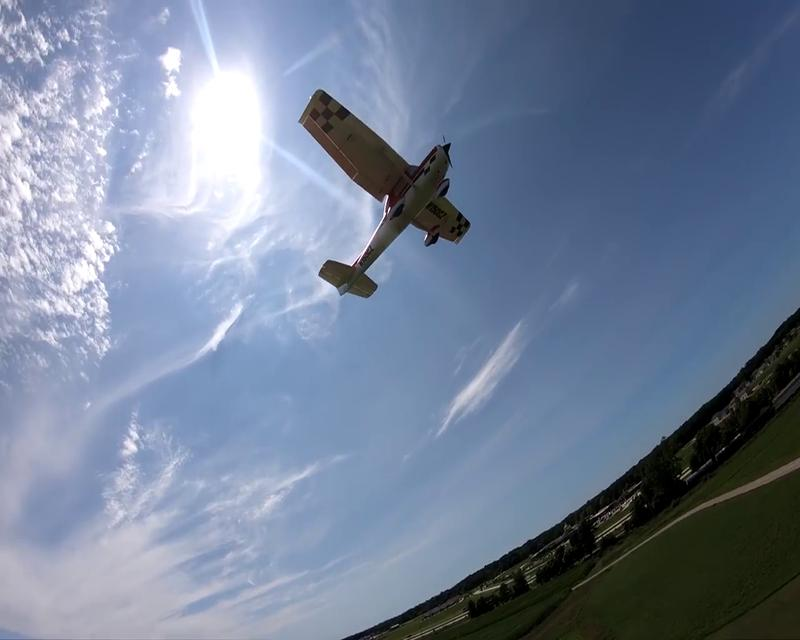UAV: (296, 86, 471, 299)
